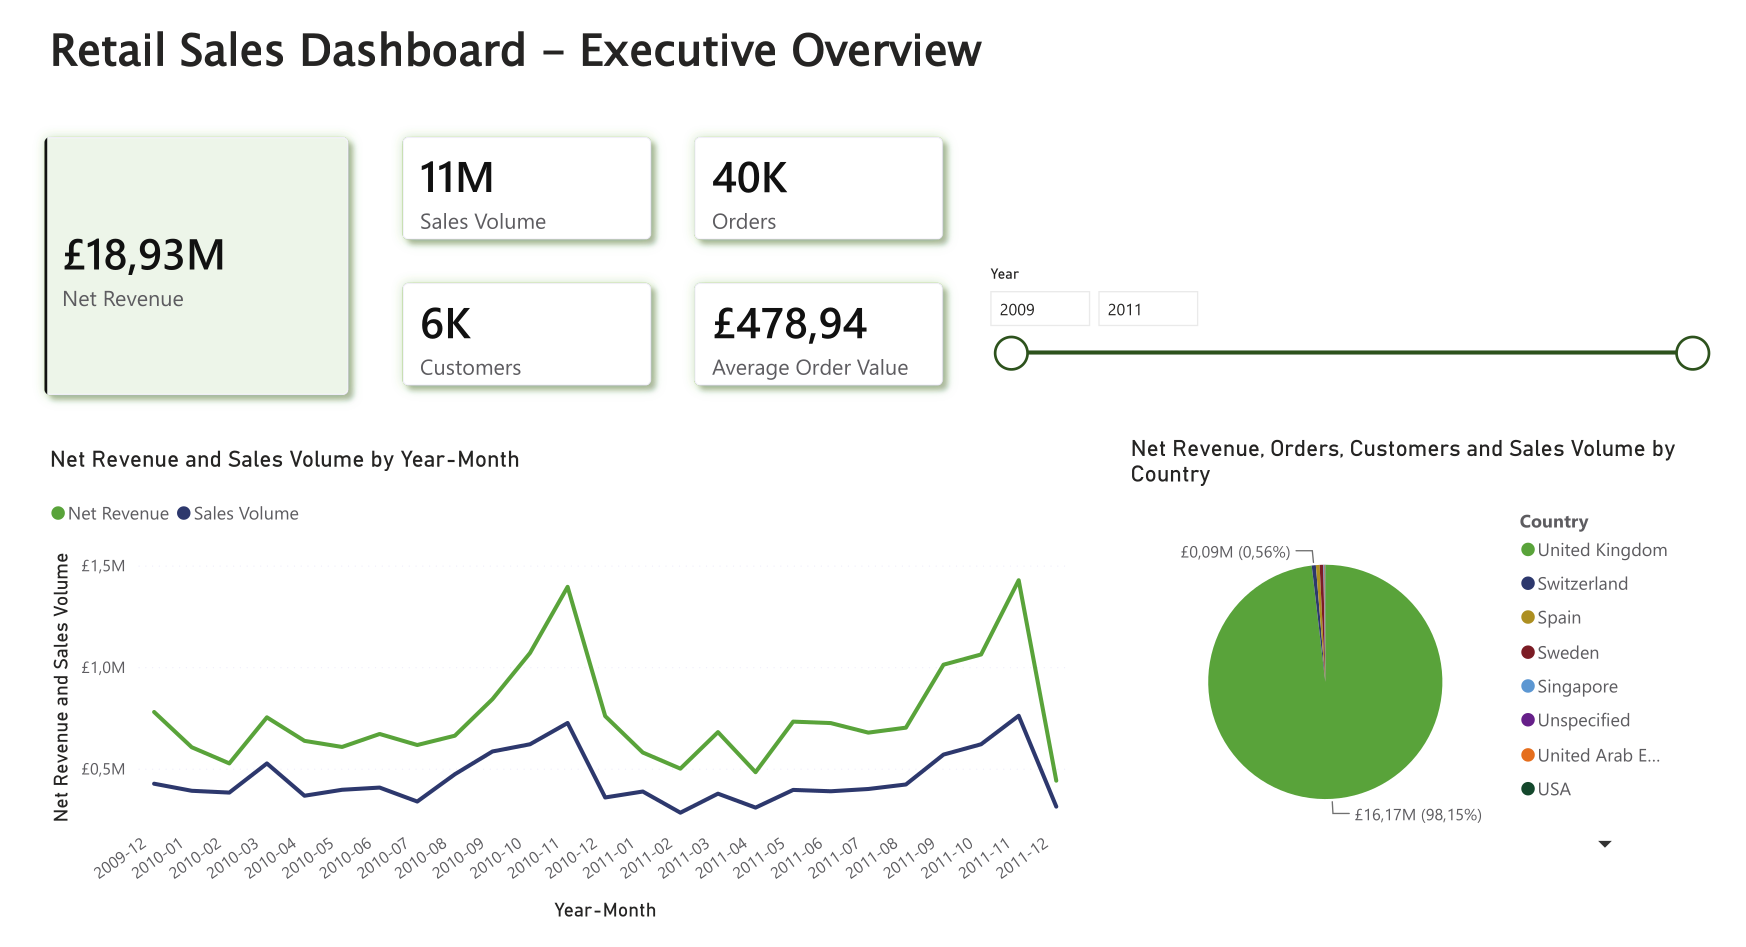

This screenshot's page, from the dashboard's own definition file:
{"tool":"powerbi","page":{"name":"Executive Overview","canvas":[1280,720],"ordinal":0},"visuals":[{"type":"slicer","fields":{"Values":["DateTable.Year"]},"box":[716.1,191.2,553.9,88.1],"z":0},{"type":"cardVisual","fields":{"Data":["Sales.Net Revenue"]},"box":[0,72,283,249],"z":1000},{"type":"pieChart","fields":{"Category":["CountryTable.Country"],"Y":["Sales.Net Revenue"]},"box":[828.5,321,421.8,316.3],"z":2000},{"type":"lineChart","fields":{"Y":["Sales.Net Revenue","Sales.Sales Volume"],"Category":["DateTable.Year-Month"]},"box":[27.8,329.1,765.9,355.7],"z":3000},{"type":"cardVisual","fields":{"Data":["Sales.Sales Volume","Sales.Orders","Sales.Customers","Sales.Average Order Value"]},"box":[265,72,459,243],"z":4000},{"type":"textbox","box":[28,8,825,64],"z":4001}]}

Visuals, with their boxes on the page's 1280x720 design canvas (x1, y1, x2, y2). These are canvas units, not pixel positions in the 1746x947 screenshot, which may show the page scaled, cropped or inside an application window:
slicer - DateTable.Year: (left=716, top=191, right=1270, bottom=279)
cardVisual - Sales.Net Revenue: (left=0, top=72, right=283, bottom=321)
pieChart - CountryTable.Country x Sales.Net Revenue: (left=828, top=321, right=1250, bottom=637)
lineChart - Sales.Net Revenue x Sales.Sales Volume: (left=28, top=329, right=794, bottom=685)
cardVisual - Sales.Sales Volume x Sales.Orders: (left=265, top=72, right=724, bottom=315)
textbox: (left=28, top=8, right=853, bottom=72)
